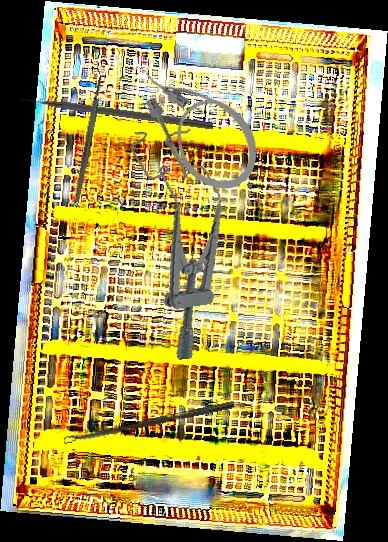Cannula: (125, 43, 274, 205)
Hook Surgical: (18, 92, 214, 130)
Scalpel Handle: (72, 76, 105, 203)
Speculum: (127, 121, 243, 363)
Surgical Spoon: (63, 399, 235, 445)
